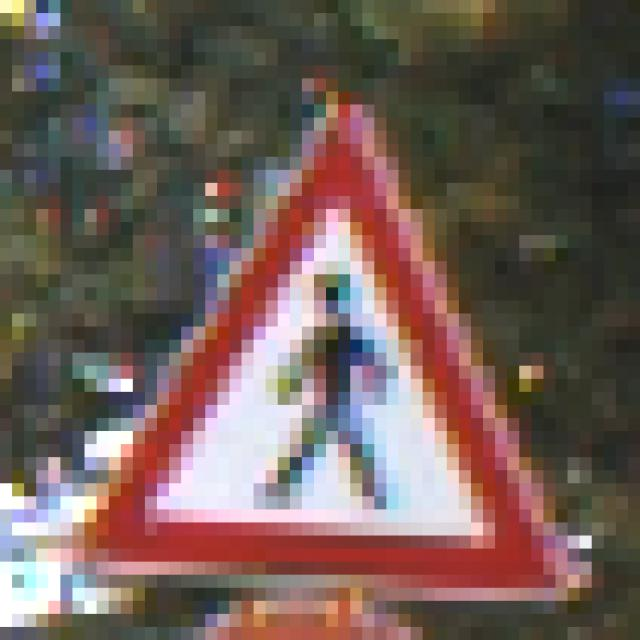Attention-Passage-Pieton: (54, 81, 596, 604)
